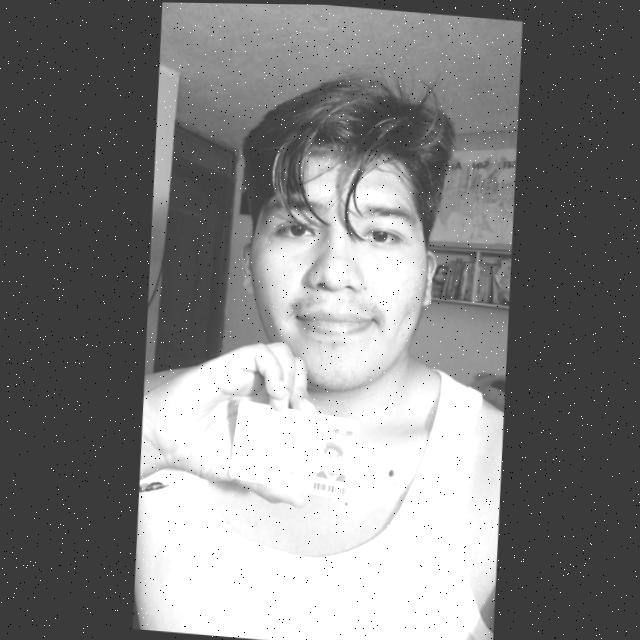card: (229, 401, 358, 499)
face: (228, 141, 453, 403)
